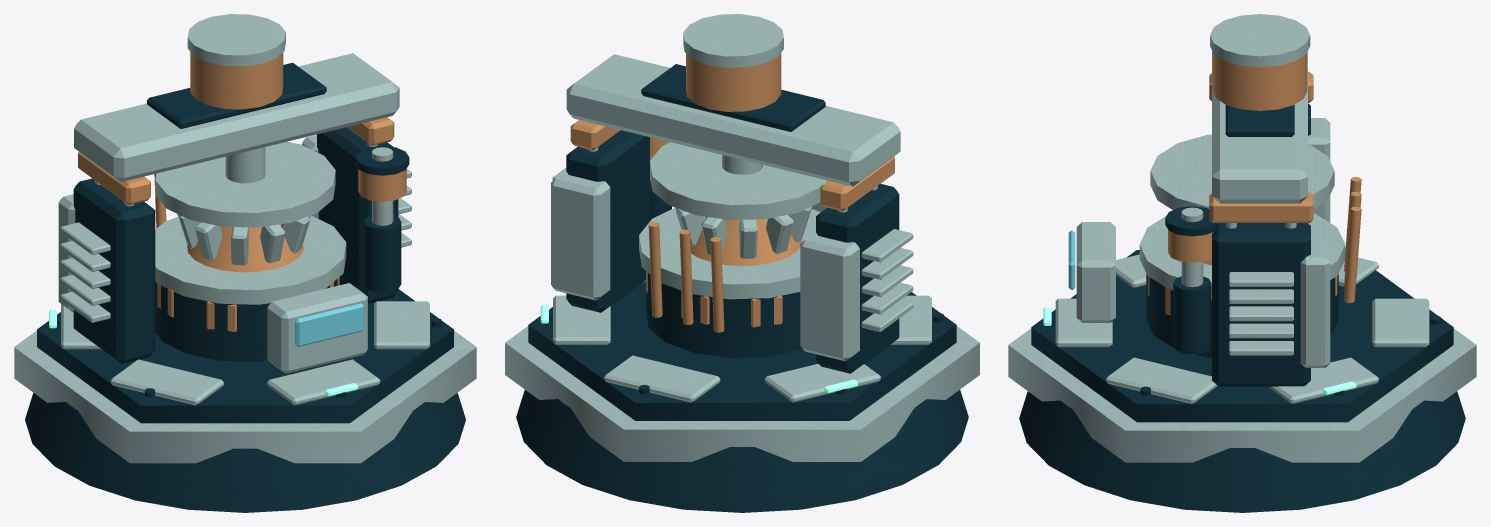
The model's file is mine.glb.
The picture shows the model from 3 angles, left to right: view 1: azimuth 30°, elevation 25°; view 2: azimuth 150°, elevation 25°; view 3: azimuth 270°, elevation 25°; orthographic projection. The views are drawn at different scales.
Visible parts, largest first — view 1: DetailedIndustrialHull, RotatingDrill, ReciprocatingPump; view 2: DetailedIndustrialHull, RotatingDrill; view 3: DetailedIndustrialHull, ReciprocatingPump.
Boxes of the visible parts, x1,y1,x2,y2 form: DetailedIndustrialHull: [14, 14, 476, 512]; RotatingDrill: [177, 147, 310, 272]; ReciprocatingPump: [355, 146, 409, 225]; DetailedIndustrialHull: [505, 14, 979, 512]; RotatingDrill: [675, 155, 812, 265]; DetailedIndustrialHull: [1008, 14, 1476, 512]; ReciprocatingPump: [1165, 206, 1218, 287].
Size of the model in its own units: 0.33 by 0.3125 by 0.346.
Materials: 1 (1 with a texture image).
